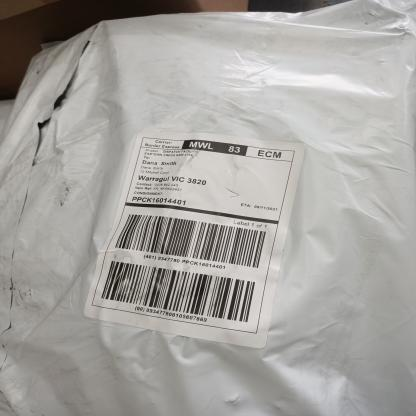label: (93, 128, 297, 350)
package: (1, 8, 416, 416)
